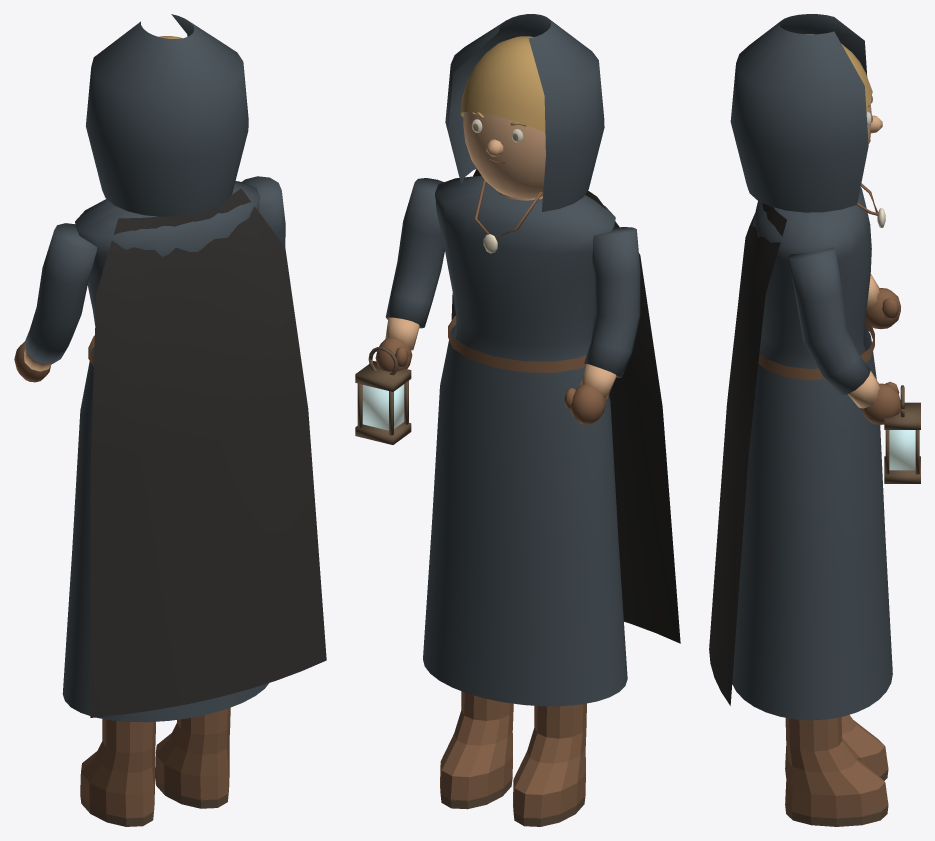
Rendered from SM_NPC_ESTRELLA_FUGAZ.glb.
3 views of the same model, side by side, from view 1: azimuth 30°, elevation 25°; view 2: azimuth 150°, elevation 25°; view 3: azimuth 270°, elevation 25° (orthographic). The views are drawn at different scales.
Visible parts, largest first — view 1: SM_NPC_ESTRELLA_FUGAZ_BODY, SM_NPC_ESTRELLA_FUGAZ_HAIR, SM_NPC_ESTRELLA_FUGAZ_ARM_L, SM_NPC_ESTRELLA_FUGAZ_LEG_L, SM_NPC_ESTRELLA_FUGAZ_LEG_R, SM_NPC_ESTRELLA_FUGAZ_ARM_R; view 2: SM_NPC_ESTRELLA_FUGAZ_BODY, SM_NPC_ESTRELLA_FUGAZ_HAIR, SM_NPC_ESTRELLA_FUGAZ_ARM_R, SM_NPC_ESTRELLA_FUGAZ_ARM_L, SM_NPC_ESTRELLA_FUGAZ_LEG_L, SM_NPC_ESTRELLA_FUGAZ_LEG_R, SM_NPC_ESTRELLA_FUGAZ_HEAD; view 3: SM_NPC_ESTRELLA_FUGAZ_BODY, SM_NPC_ESTRELLA_FUGAZ_HAIR, SM_NPC_ESTRELLA_FUGAZ_ARM_R, SM_NPC_ESTRELLA_FUGAZ_LEG_R, SM_NPC_ESTRELLA_FUGAZ_LEG_L, SM_NPC_ESTRELLA_FUGAZ_ARM_L.
Boxes of the visible parts, bbox=[...] form: SM_NPC_ESTRELLA_FUGAZ_BODY: bbox=[62, 181, 326, 722]; SM_NPC_ESTRELLA_FUGAZ_HAIR: bbox=[86, 14, 248, 216]; SM_NPC_ESTRELLA_FUGAZ_ARM_L: bbox=[14, 223, 97, 382]; SM_NPC_ESTRELLA_FUGAZ_LEG_L: bbox=[80, 719, 155, 826]; SM_NPC_ESTRELLA_FUGAZ_LEG_R: bbox=[155, 707, 230, 808]; SM_NPC_ESTRELLA_FUGAZ_ARM_R: bbox=[241, 176, 285, 246]; SM_NPC_ESTRELLA_FUGAZ_BODY: bbox=[423, 169, 680, 706]; SM_NPC_ESTRELLA_FUGAZ_HAIR: bbox=[445, 14, 604, 211]; SM_NPC_ESTRELLA_FUGAZ_ARM_R: bbox=[355, 178, 444, 444]; SM_NPC_ESTRELLA_FUGAZ_ARM_L: bbox=[564, 227, 640, 424]; SM_NPC_ESTRELLA_FUGAZ_LEG_L: bbox=[513, 703, 586, 826]; SM_NPC_ESTRELLA_FUGAZ_LEG_R: bbox=[440, 691, 513, 809]; SM_NPC_ESTRELLA_FUGAZ_HEAD: bbox=[463, 111, 545, 198]; SM_NPC_ESTRELLA_FUGAZ_BODY: bbox=[709, 183, 892, 720]; SM_NPC_ESTRELLA_FUGAZ_HAIR: bbox=[730, 14, 872, 212]; SM_NPC_ESTRELLA_FUGAZ_ARM_R: bbox=[787, 247, 920, 483]; SM_NPC_ESTRELLA_FUGAZ_LEG_R: bbox=[785, 717, 888, 826]; SM_NPC_ESTRELLA_FUGAZ_LEG_L: bbox=[785, 715, 888, 780]; SM_NPC_ESTRELLA_FUGAZ_ARM_L: bbox=[865, 273, 900, 328].
Bounding box in the file's own units: 0.6008 × 1.85 × 0.4594.
